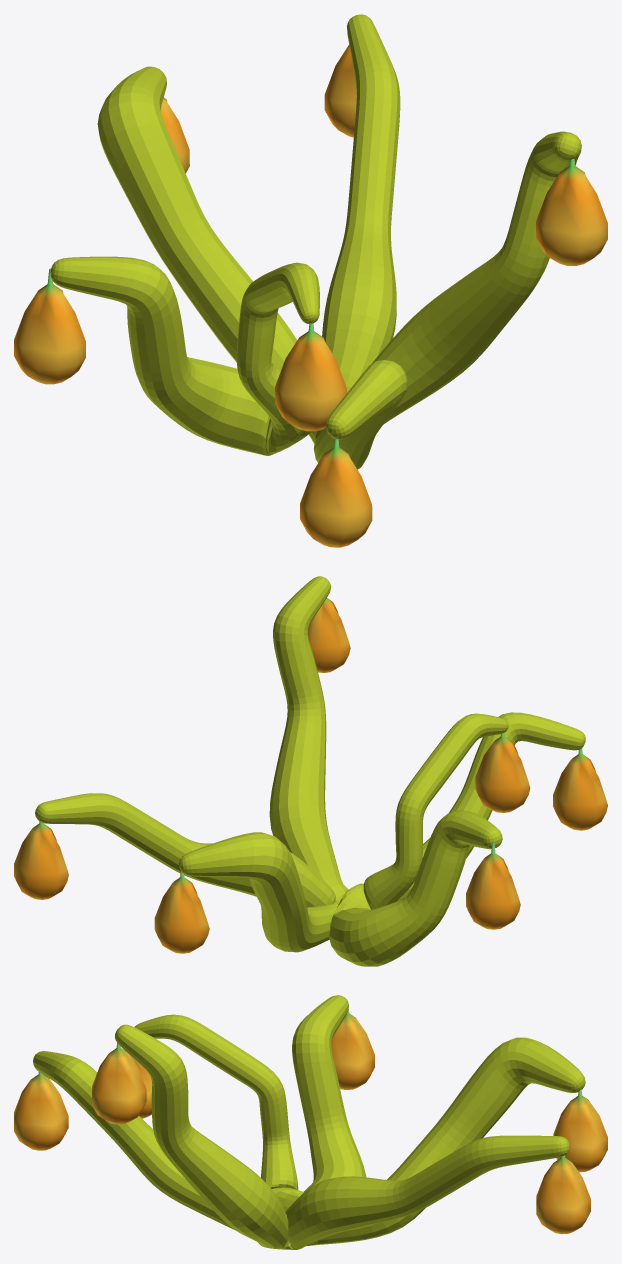
Rendered from GoldFruit0.2.fbx.
3 views of the same model, one above another, from view 1: azimuth 30°, elevation 25°; view 2: azimuth 150°, elevation 25°; view 3: azimuth 270°, elevation 25° (orthographic). The views are drawn at different scales.
Visible parts, largest first — view 1: Cube, Sphere.004, Sphere.002, Sphere.005, Sphere.003, Sphere, Sphere.001; view 2: Cube, Sphere.002, Sphere.001, Sphere.004, Sphere.003, Sphere, Sphere.005; view 3: Cube, Sphere.005, Sphere, Sphere.004, Sphere.001, Sphere.002, Sphere.003.
Boxes of the visible parts, left/top/right/bottom form: Cube: left=50, top=14, right=581, bottom=469; Sphere.004: left=300, top=439, right=372, bottom=547; Sphere.002: left=14, top=268, right=85, bottom=384; Sphere.005: left=536, top=158, right=607, bottom=265; Sphere.003: left=275, top=323, right=346, bottom=431; Sphere: left=324, top=45, right=356, bottom=137; Sphere.001: left=161, top=97, right=189, bottom=173; Cube: left=35, top=576, right=585, bottom=966; Sphere.002: left=466, top=842, right=520, bottom=929; Sphere.001: left=154, top=871, right=209, bottom=953; Sphere.004: left=553, top=748, right=607, bottom=830; Sphere.003: left=475, top=732, right=530, bottom=812; Sphere: left=14, top=821, right=68, bottom=899; Sphere.005: left=308, top=598, right=350, bottom=672; Cube: left=33, top=995, right=585, bottom=1249; Sphere.005: left=92, top=1043, right=146, bottom=1124; Sphere: left=536, top=1155, right=590, bottom=1234; Sphere.004: left=14, top=1072, right=68, bottom=1150; Sphere.001: left=553, top=1089, right=607, bottom=1172; Sphere.002: left=331, top=1009, right=374, bottom=1089; Sphere.003: left=129, top=1054, right=152, bottom=1118.
Size of the model in its own units: 788 by 537 by 1030.
